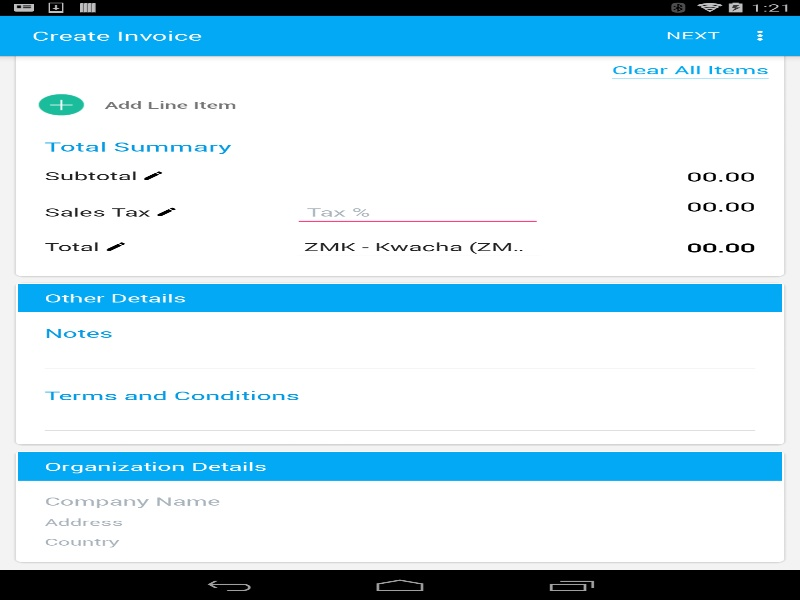Input: (18, 347, 782, 367), (18, 410, 782, 429), (293, 197, 542, 226), (44, 197, 178, 226), (44, 167, 165, 183), (44, 238, 128, 254)
